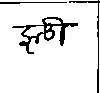e_matra: (46, 17, 68, 24)
